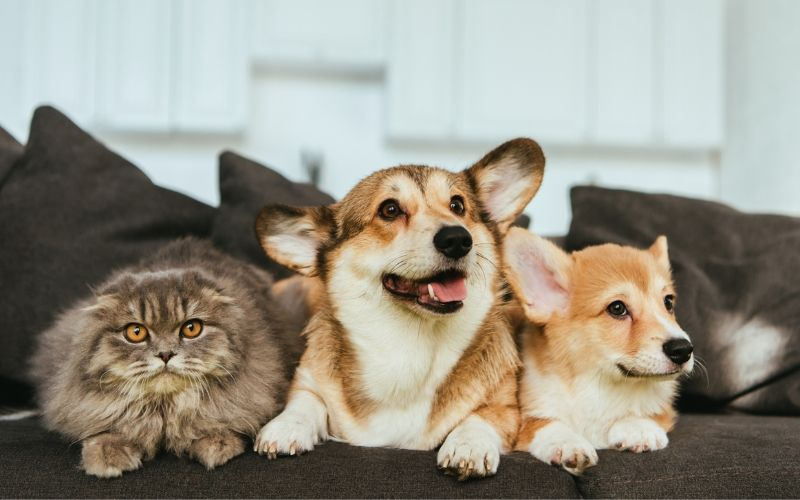cat: (37, 236, 304, 471)
dog: (256, 140, 543, 474), (501, 225, 693, 475)
